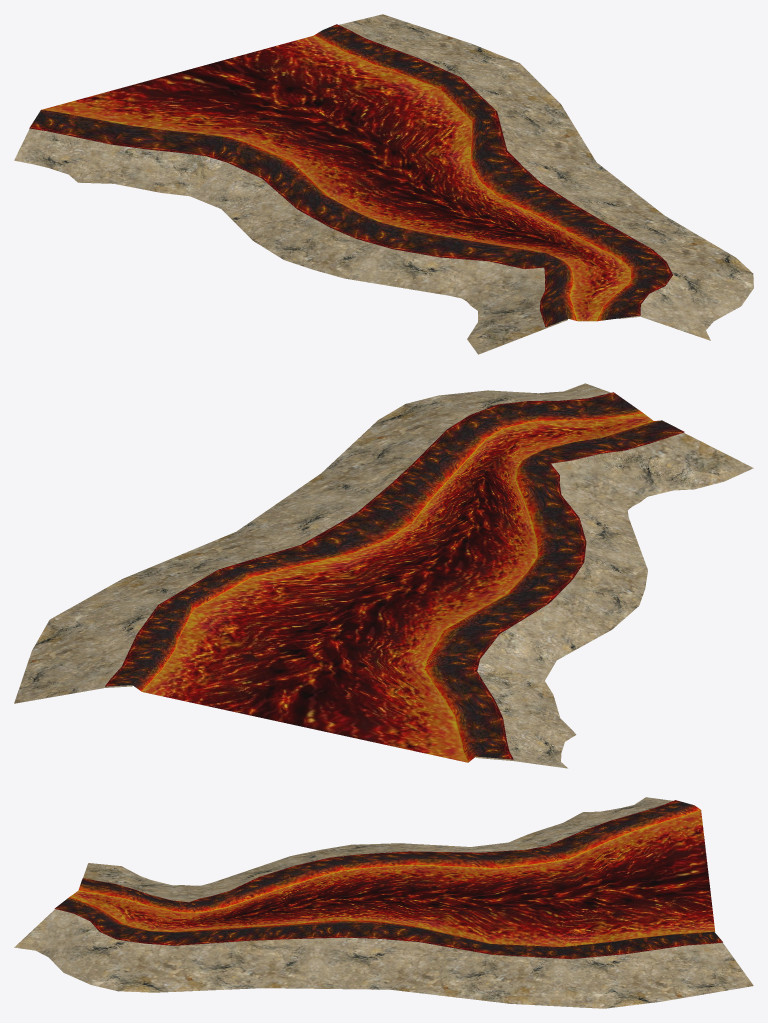
File: pir_m_prp_cav_stream_lava.fbx
3 views of the same model, one above another, from view 1: azimuth 30°, elevation 25°; view 2: azimuth 150°, elevation 25°; view 3: azimuth 270°, elevation 25° (orthographic). The views are drawn at different scales.
Parts seen in each view (by area): view 1: lavaStream_lava, bank_1, bank_2, lavaStream_cooling_1, lavaStream_cooling_2; view 2: lavaStream_lava, bank_2, bank_1, lavaStream_cooling_2, lavaStream_cooling_1; view 3: lavaStream_lava, bank_2, lavaStream_cooling_1, lavaStream_cooling_2, bank_1.
Boxes of the visible parts, x1=… form: lavaStream_lava: x1=41, y1=35, x2=630, y2=321; bank_1: x1=14, y1=128, x2=567, y2=354; bank_2: x1=339, y1=14, x2=753, y2=340; lavaStream_cooling_1: x1=29, y1=110, x2=577, y2=327; lavaStream_cooling_2: x1=313, y1=24, x2=672, y2=321; lavaStream_lava: x1=142, y1=413, x2=653, y2=762; bank_2: x1=14, y1=383, x2=610, y2=703; bank_1: x1=475, y1=432, x2=753, y2=768; lavaStream_cooling_2: x1=105, y1=392, x2=643, y2=691; lavaStream_cooling_1: x1=424, y1=420, x2=684, y2=762; lavaStream_lava: x1=70, y1=810, x2=714, y2=946; bank_2: x1=14, y1=909, x2=753, y2=1008; lavaStream_cooling_1: x1=78, y1=800, x2=700, y2=912; lavaStream_cooling_2: x1=54, y1=896, x2=722, y2=959; bank_1: x1=83, y1=797, x2=672, y2=902.
Bounding box in the file's own units: 13401 × 569 × 20056.
3 materials, 3 textured.
